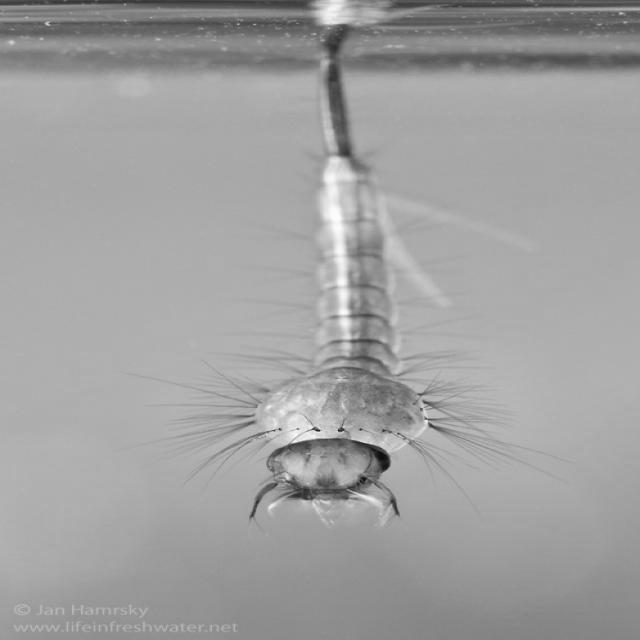larvas: (234, 43, 434, 525)
